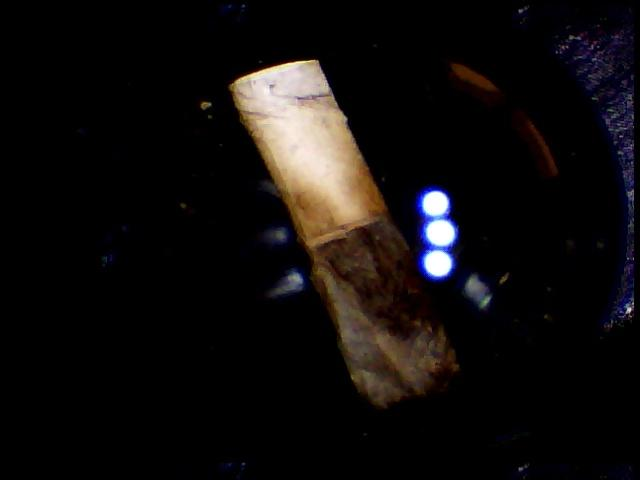megot: (206, 51, 471, 413)
